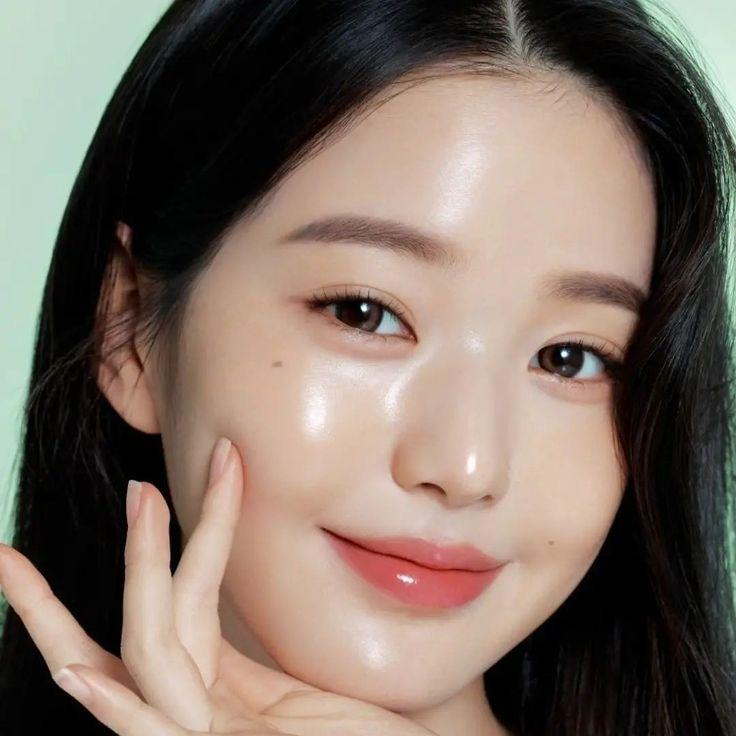Oily-Skin: (396, 108, 616, 226), (230, 350, 392, 488), (312, 608, 462, 698), (526, 422, 606, 578), (434, 360, 518, 486)
